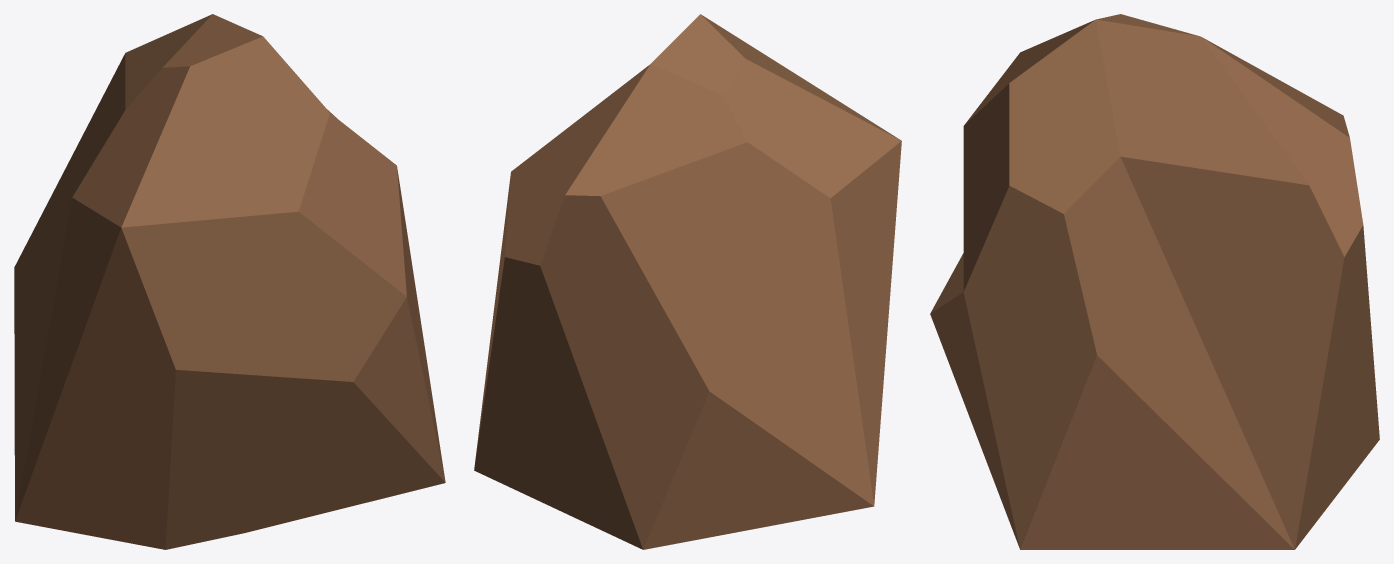
Rendered from stone02_dirt.fbx.
3 renders of one model, left to right at view 1: azimuth 30°, elevation 25°; view 2: azimuth 150°, elevation 25°; view 3: azimuth 270°, elevation 25°, orthographic. The views are drawn at different scales.
Parts seen in each view (by area): view 1: stone02_dirt_LOD0; view 2: stone02_dirt_LOD0; view 3: stone02_dirt_LOD0.
Part boxes in pixels (x1,y1,x2,y2): stone02_dirt_LOD0: (14, 14, 445, 549); stone02_dirt_LOD0: (474, 14, 901, 549); stone02_dirt_LOD0: (930, 14, 1379, 549).
Size of what is drawn, in the model's own units: 80.9 by 101 by 86.06.
